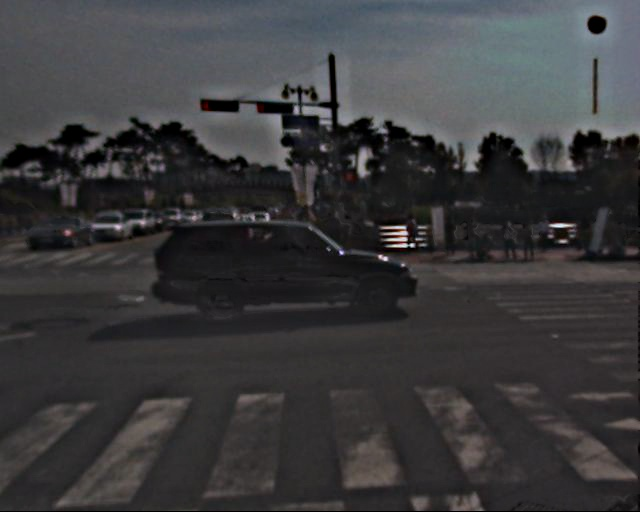person: (272, 202, 316, 245), (327, 207, 349, 260), (466, 214, 487, 265), (443, 218, 463, 266), (523, 220, 542, 266), (538, 215, 556, 260), (503, 221, 521, 266), (405, 211, 423, 256), (577, 210, 594, 252)
